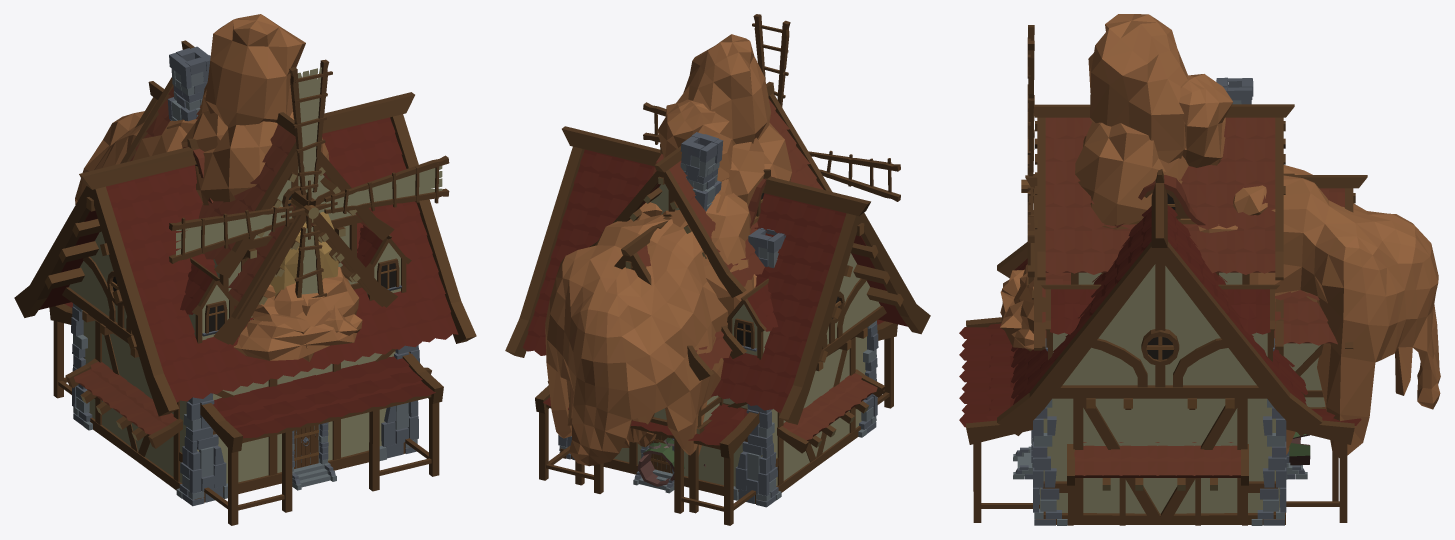
File: props.glb
3 renders of one model, left to right at view 1: azimuth 30°, elevation 25°; view 2: azimuth 150°, elevation 25°; view 3: azimuth 270°, elevation 25°, orthographic. The views are drawn at different scales.
Parts seen in each view (by area): view 1: Inn, Mill, BirchTree_Autumn_5, CommonTree_Autumn_1, BirchTree_Autumn_2, House_2, House_1, Willow_Autumn_2, CommonTree_Autumn_2, BirchTree_Autumn_3, BirchTree_Autumn_1; view 2: Inn, Willow_Autumn_2, Mill, BirchTree_Autumn_5, House_2, BirchTree_Autumn_1, BirchTree_Autumn_3, BirchTree_Autumn_2, WoodLog_Moss; view 3: Inn, Mill, Willow_Autumn_2, BirchTree_Autumn_5, House_2, BirchTree_Autumn_2, CommonTree_Autumn_1, CommonTree_Autumn_2, House_1, WoodLog_Moss.
Boxes of the visible parts, <box> form: Inn: <box>14,92,476,525</box>; Mill: <box>65,40,449,448</box>; BirchTree_Autumn_5: <box>198,14,305,128</box>; CommonTree_Autumn_1: <box>233,267,362,360</box>; BirchTree_Autumn_2: <box>195,112,338,295</box>; House_2: <box>135,81,397,345</box>; House_1: <box>170,119,383,344</box>; Willow_Autumn_2: <box>75,111,144,204</box>; CommonTree_Autumn_2: <box>252,284,357,361</box>; BirchTree_Autumn_3: <box>181,110,227,151</box>; BirchTree_Autumn_1: <box>132,119,186,160</box>; Inn: <box>505,126,930,525</box>; Willow_Autumn_2: <box>545,214,728,466</box>; Mill: <box>547,14,900,453</box>; BirchTree_Autumn_5: <box>630,34,770,220</box>; House_2: <box>575,216,785,513</box>; BirchTree_Autumn_1: <box>662,193,753,315</box>; BirchTree_Autumn_3: <box>727,137,764,206</box>; BirchTree_Autumn_2: <box>758,123,791,181</box>; WoodLog_Moss: <box>637,437,705,486</box>; Inn: <box>959,175,1361,525</box>; Mill: <box>1021,25,1294,525</box>; Willow_Autumn_2: <box>1198,165,1440,457</box>; BirchTree_Autumn_5: <box>1088,14,1267,215</box>; House_2: <box>1025,175,1367,501</box>; BirchTree_Autumn_2: <box>1075,122,1165,229</box>; CommonTree_Autumn_1: <box>1000,264,1033,351</box>; CommonTree_Autumn_2: <box>1000,269,1024,334</box>; House_1: <box>1028,173,1294,349</box>; WoodLog_Moss: <box>1289,432,1310,465</box>.
Bounding box in the file's own units: 4.03 × 5.21 × 4.81.
